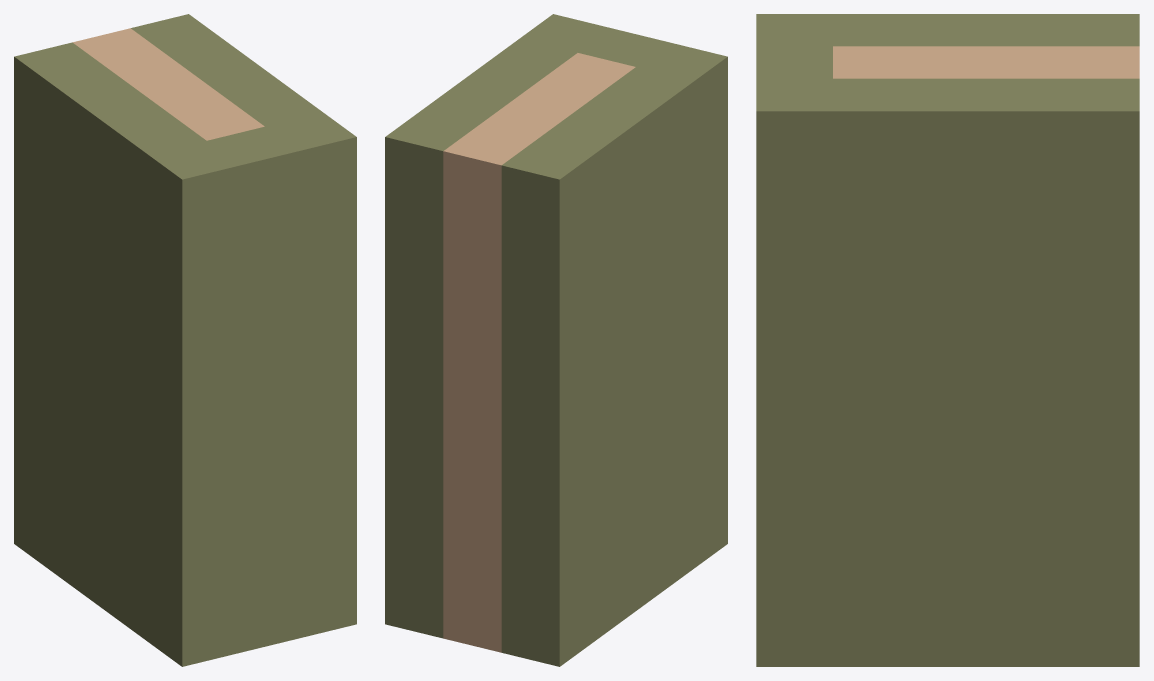
Rendered from Livre 7.obj.
3 renders of one model, left to right at view 1: azimuth 30°, elevation 25°; view 2: azimuth 150°, elevation 25°; view 3: azimuth 270°, elevation 25°, orthographic. The views are drawn at different scales.
Visible parts, largest first — view 1: Livre 7; view 2: Livre 7; view 3: Livre 7.
Boxes of the visible parts, bbox=[...] form: Livre 7: bbox=[14, 14, 356, 666]; Livre 7: bbox=[385, 14, 727, 666]; Livre 7: bbox=[756, 14, 1139, 666].
Bounding box in the file's own units: 3 × 8 × 5.
Materials: 1 (1 with a texture image).
